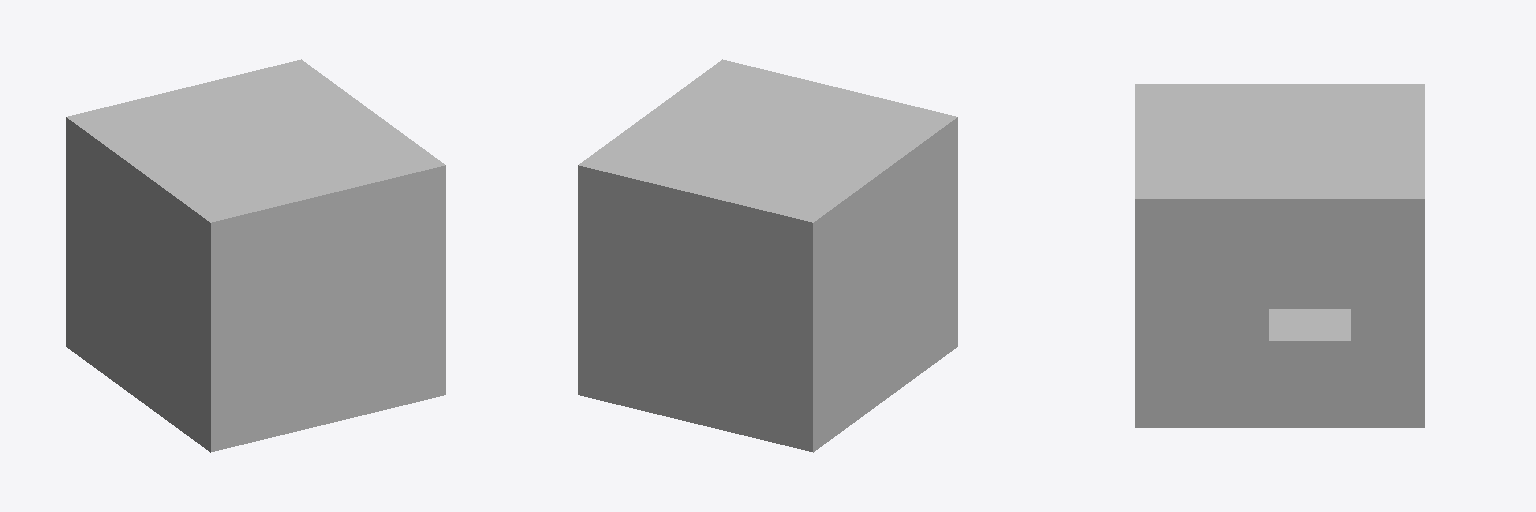
The picture shows the model from 3 angles: view 1: azimuth 30°, elevation 25°; view 2: azimuth 150°, elevation 25°; view 3: azimuth 270°, elevation 25°; orthographic projection.
Parts seen in each view (by area): view 1: corner001; view 2: corner001; view 3: corner001.
Part boxes in pixels (x1,y1,x2,y2): corner001: (66,59,445,452); corner001: (578,59,957,452); corner001: (1135,84,1424,427).
Bounding box in the file's own units: 1480 × 1380 × 1574.